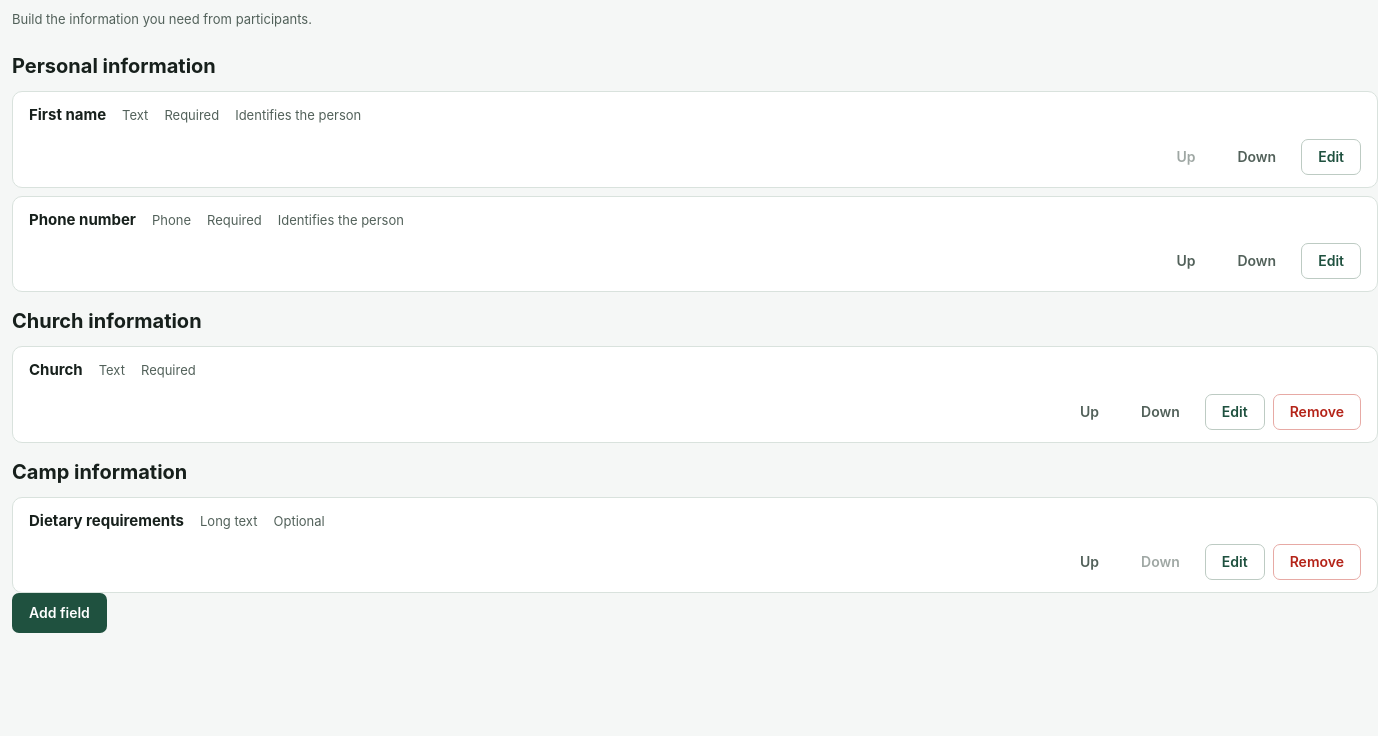
Test: registration form builder › locks the person fields: no removal, and the type and required setting cannot change
Click the button named "Edit Phone number".
click(1331, 261)  # box [1301,243,1361,279]
(page scrolled)
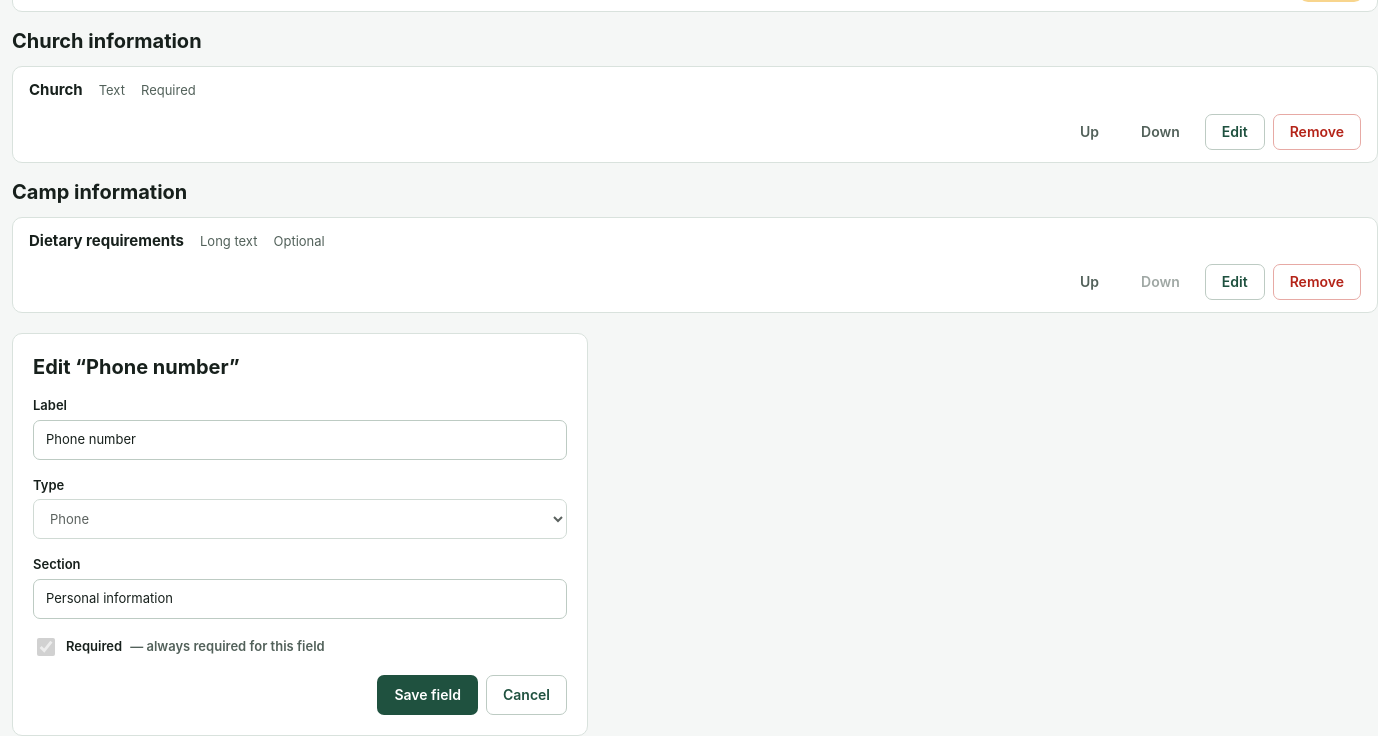
expect the dropdown labelled "Type" is disabled: met, box [33,499,567,539]
expect the checkbox labelled "Required — always required for this field" is disabled: met, box [37,638,55,656]
